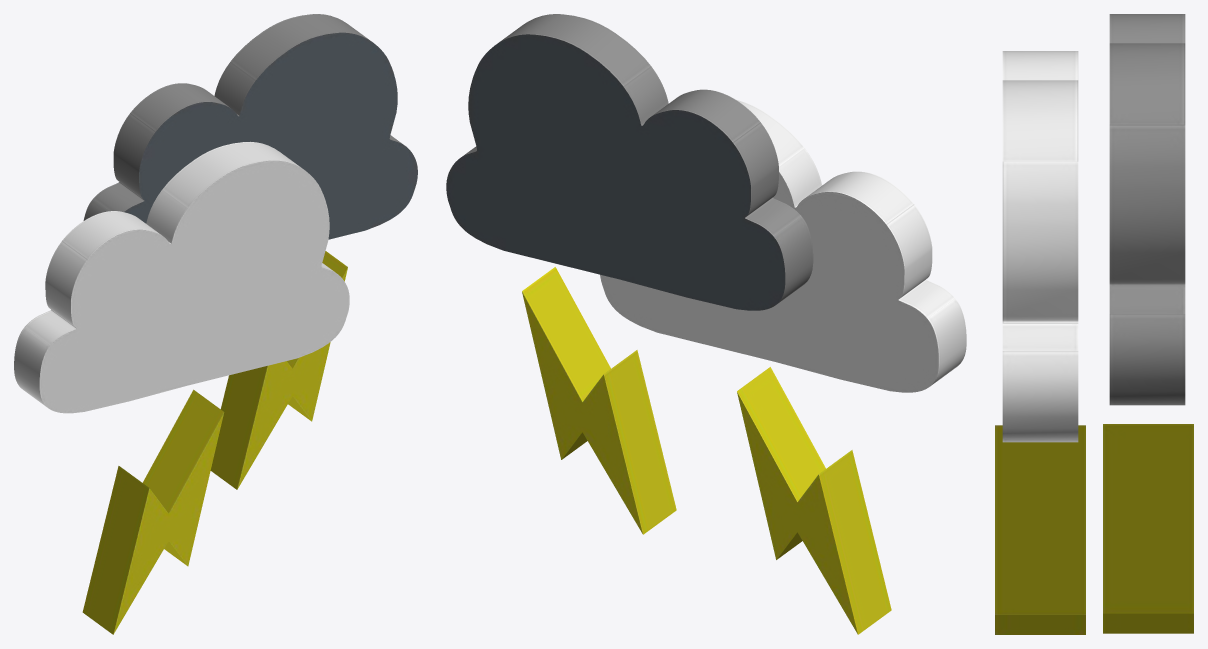
File: thunder_icon.glb
3 renders of one model, left to right at view 1: azimuth 30°, elevation 25°; view 2: azimuth 150°, elevation 25°; view 3: azimuth 270°, elevation 25°, orthographic. The views are drawn at different scales.
Visible parts, largest first — view 1: lighting_lighting_0.001; view 2: lighting_lighting_0.001; view 3: lighting_lighting_0.001.
Boxes of the visible parts, bbox=[...] form: lighting_lighting_0.001: bbox=[14, 14, 417, 634]; lighting_lighting_0.001: bbox=[446, 14, 966, 634]; lighting_lighting_0.001: bbox=[995, 14, 1193, 634].
Bounding box in the file's own units: 30.54 × 35.98 × 8.58.
1 material, 1 textured.
